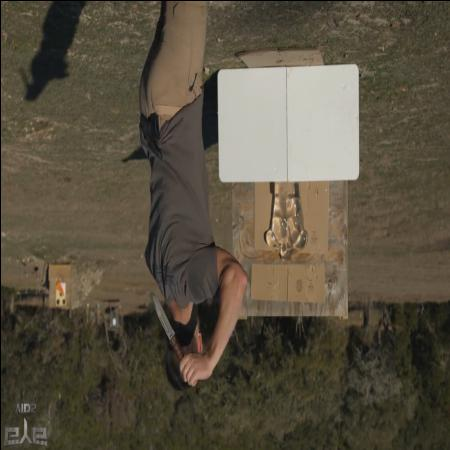long weapon: (148, 284, 200, 392)
